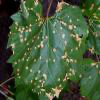grape leaf black rot: (4, 1, 89, 99)
